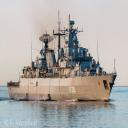Fragata: (8, 10, 118, 104)
